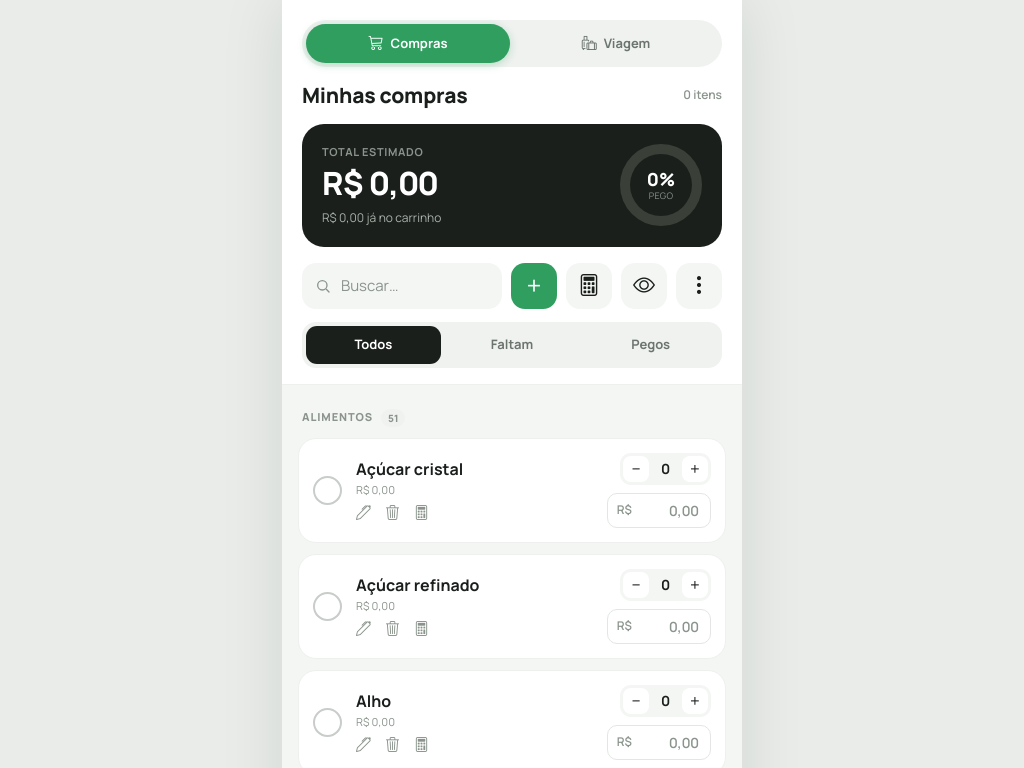
Test: categorias: só renomear, sem criar, excluir ou reordenar
The image size is (1024, 768).
Click the button named "Mais ações". click: click(699, 286)
box: [676, 263, 722, 309]
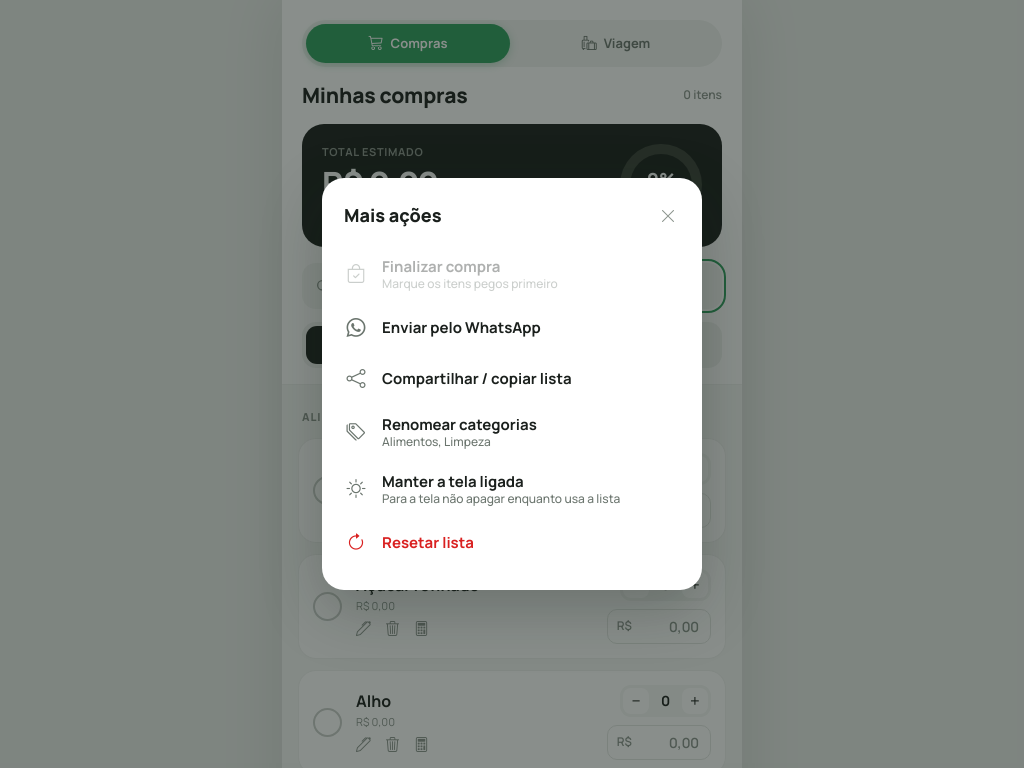
Click the button "Renomear categorias Alimentos, Limpeza". click: click(512, 432)
box: [336, 404, 688, 461]
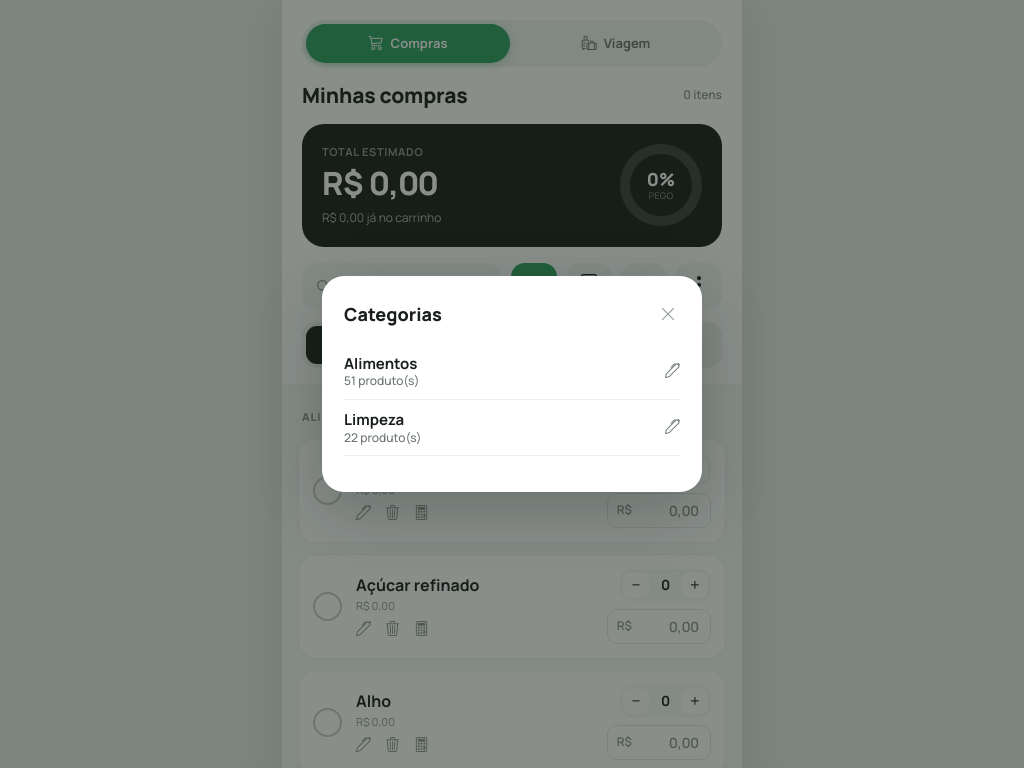
Click the button named "Renomear Limpeza". click: click(672, 428)
box: [665, 416, 680, 439]
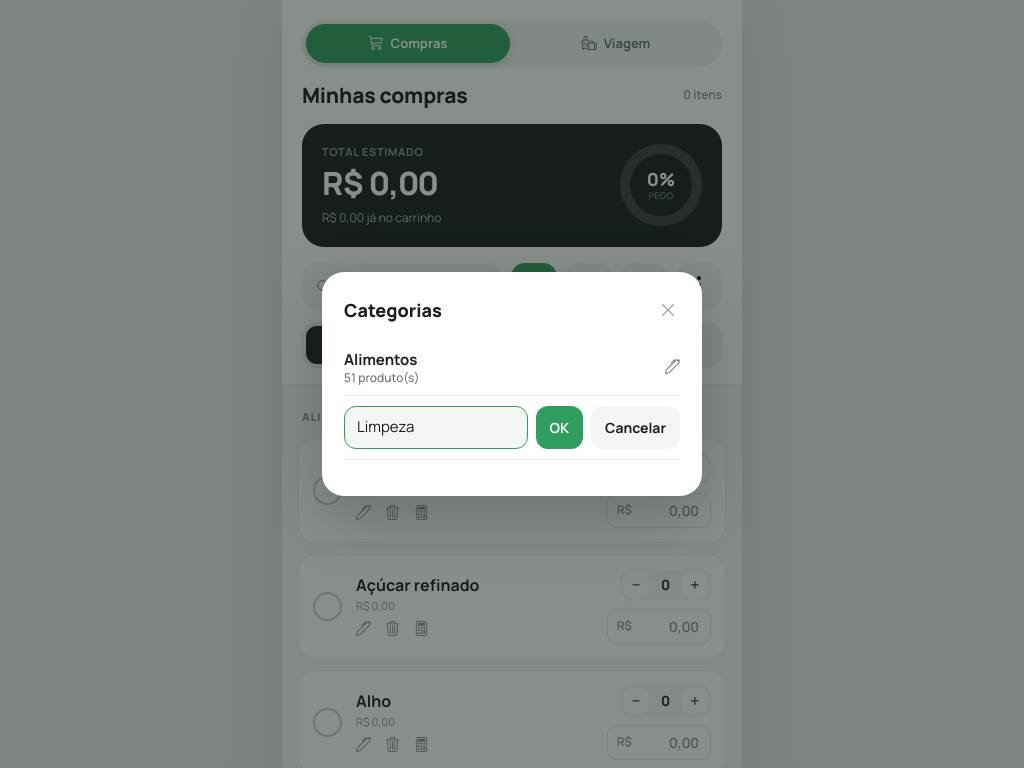
Replace the text in the field named "Novo nome para Limpeza" with "alimentos". click: (436, 428)
box: [344, 406, 528, 449]
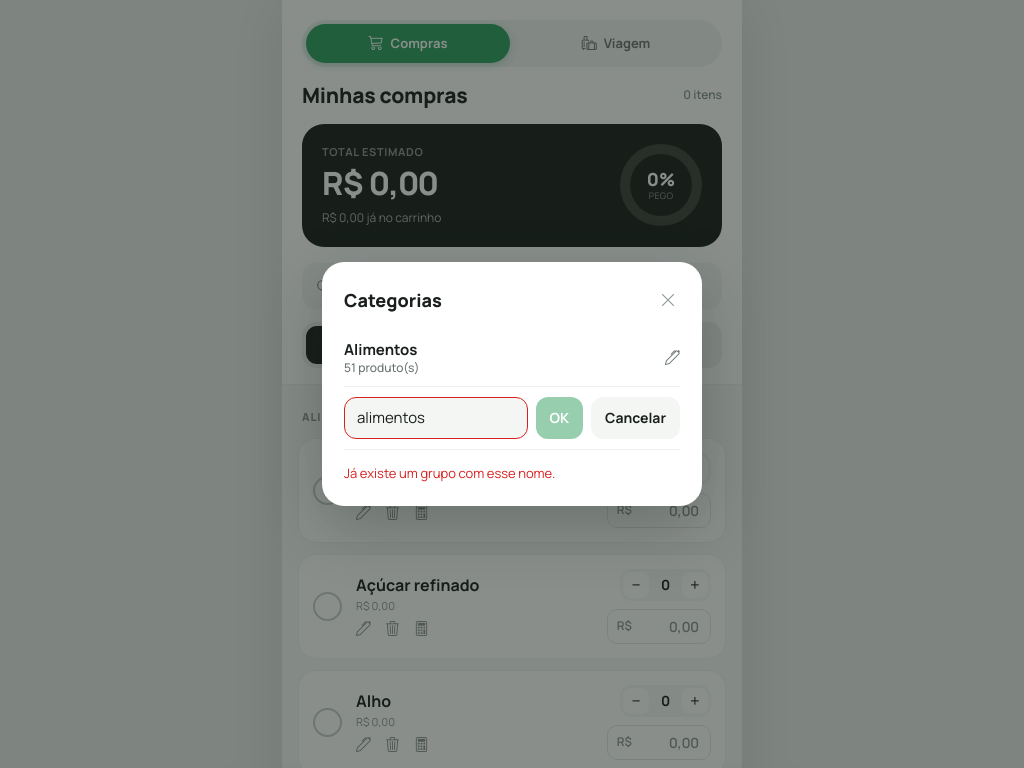
Expected: the button "OK" is disabled, [536, 396, 583, 439]
Expected: the message shows "Já existe", [344, 464, 555, 482]
Clear the field named "Novo nome para Limpeza". click: (436, 418)
box: [344, 396, 528, 439]
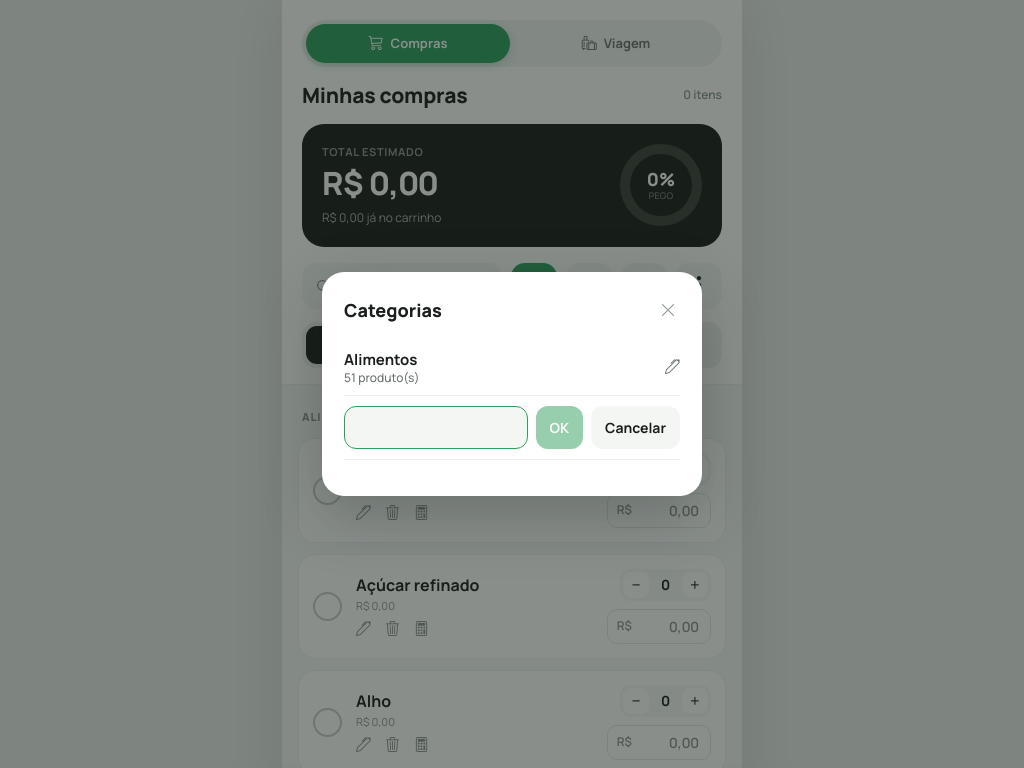
Type "Higiene e limpeza" into the field named "Novo nome para Limpeza". click: (436, 428)
box: [344, 406, 528, 449]
Then press Enter
(page scrolled)
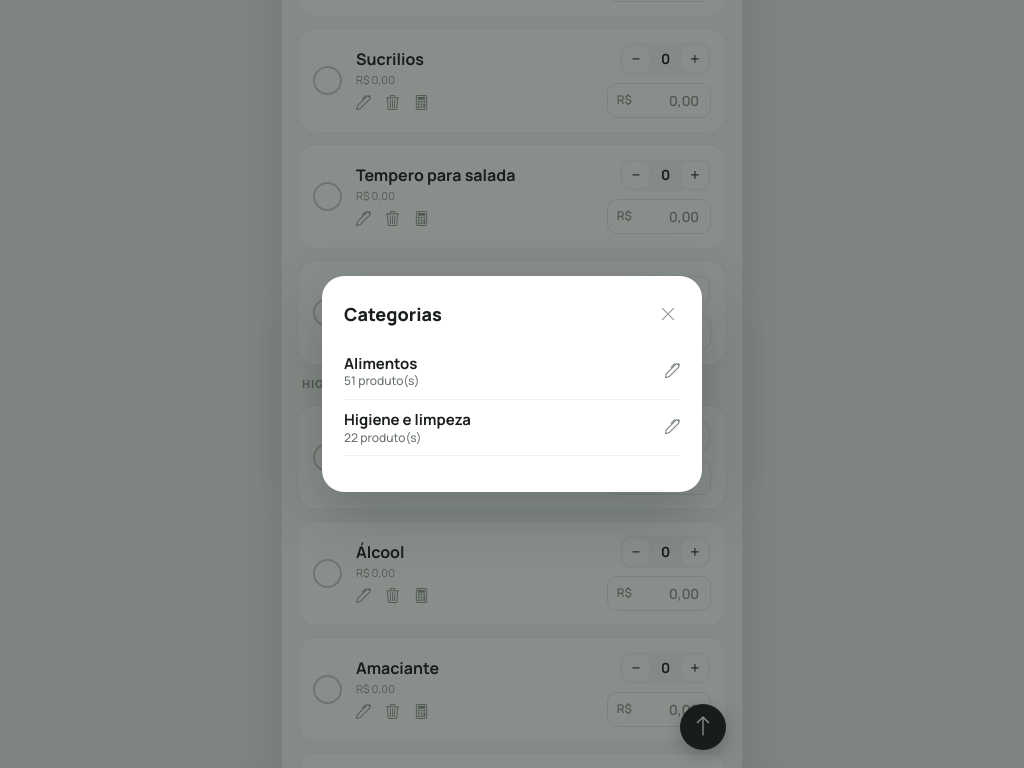
Expected: the heading "Higiene e limpeza 22" is shown, [302, 376, 453, 394]
